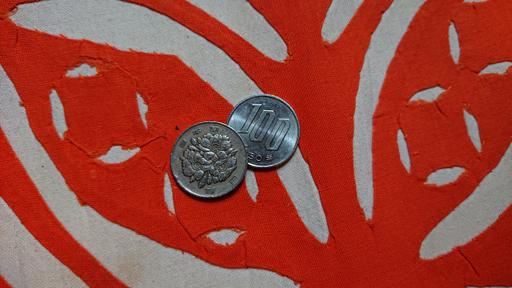100yen: (171, 122, 246, 198), (224, 95, 299, 168)
